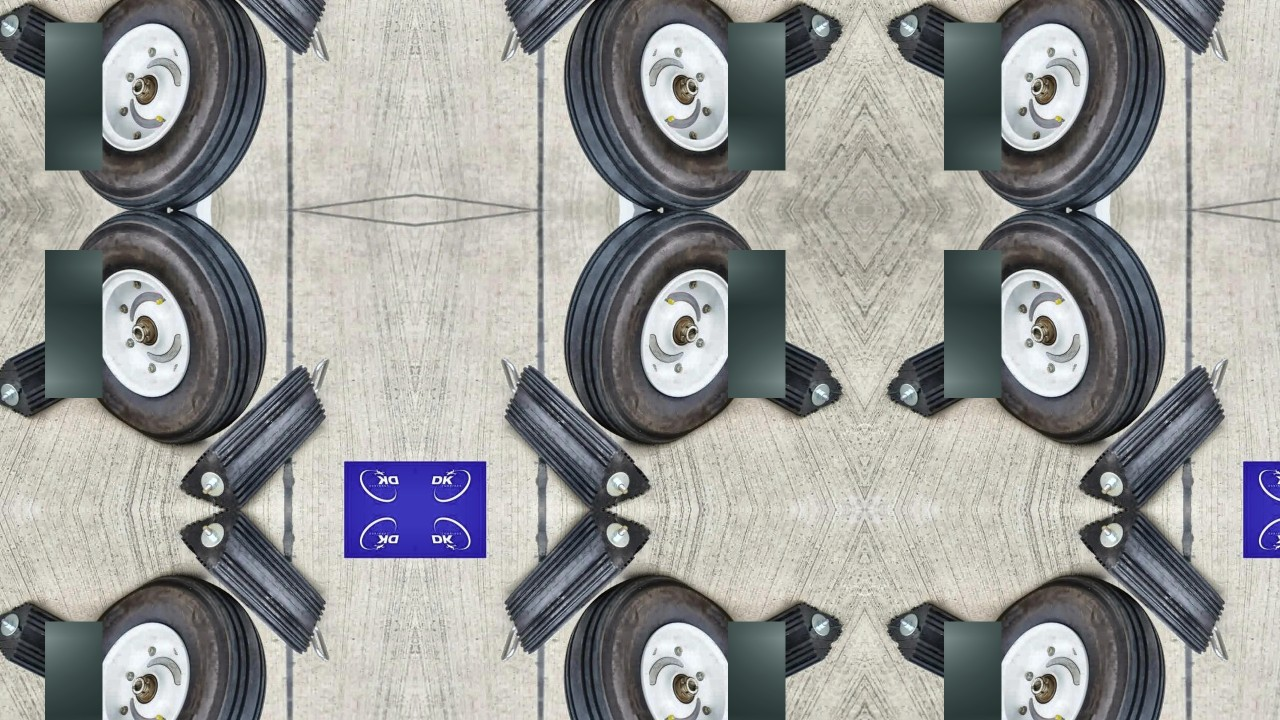chock: (179, 364, 327, 509), (503, 364, 651, 509), (1079, 364, 1227, 509), (179, 511, 327, 656), (503, 511, 651, 656), (1079, 511, 1227, 656), (711, 1, 843, 96), (887, 1, 1019, 96), (711, 324, 843, 419), (887, 324, 1019, 419), (711, 601, 843, 696), (887, 601, 1019, 696), (0, 1, 119, 96), (0, 324, 119, 419), (0, 601, 119, 696), (179, 0, 327, 56), (503, 0, 651, 56), (1079, 0, 1227, 56)
wheel: (566, 211, 764, 443), (67, 211, 264, 443), (967, 211, 1164, 443), (566, 0, 764, 209), (67, 0, 264, 209), (967, 0, 1164, 209), (566, 577, 764, 720), (67, 577, 264, 720), (967, 577, 1164, 720)
